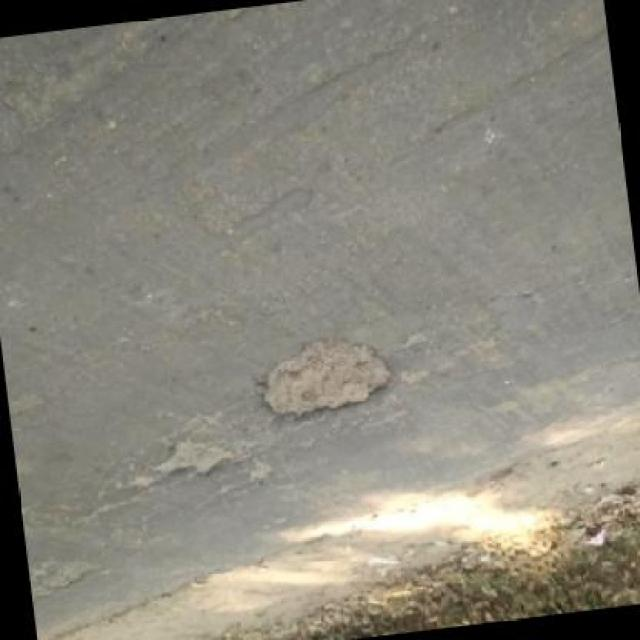pothole1: (254, 328, 400, 428), (147, 431, 239, 484)
